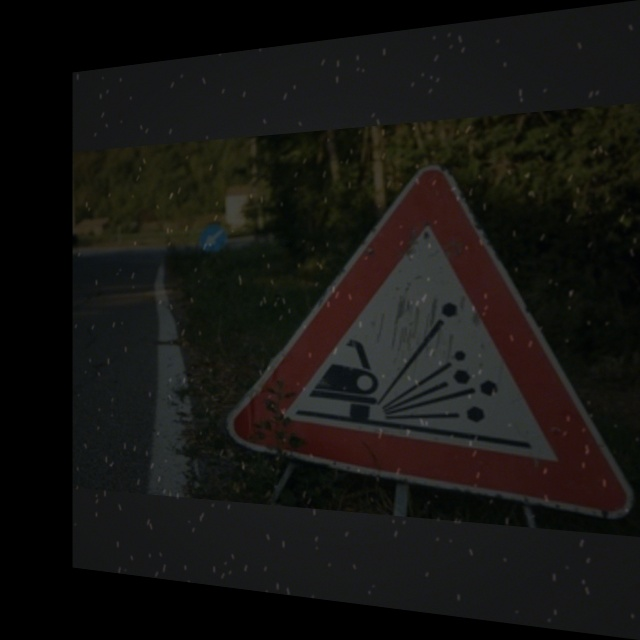Loose_Gravel: (253, 154, 610, 494)
